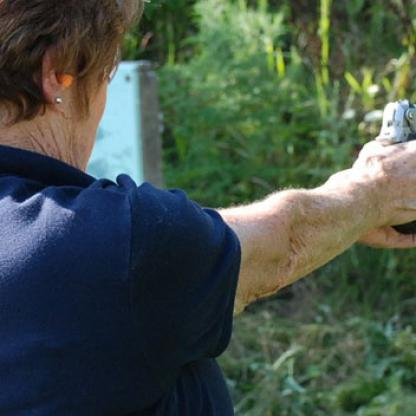gun: (378, 100, 415, 234)
